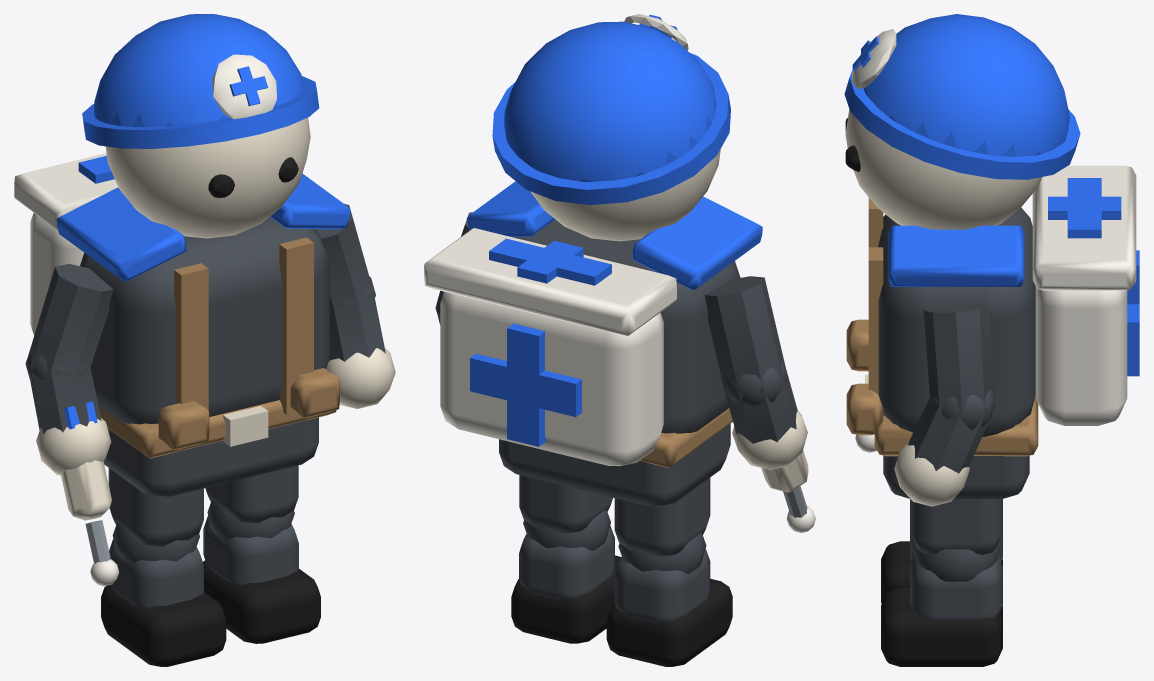
Rendered from medic.glb.
3 views of the same model, side by side, from view 1: azimuth 30°, elevation 25°; view 2: azimuth 150°, elevation 25°; view 3: azimuth 270°, elevation 25° (orthographic).
Visible parts, largest first — view 1: turret__M_SmokePlastic, head__M_Team, arms__M_SmokePlastic, head__M_CreamPlastic, turret__M_Kraft, turret__M_Team, hips__M_SmokePlastic, knee_r__M_Licorice, pack__M_Bone, knee_l__M_Licorice, knee_l__M_SmokePlastic, knee_r__M_SmokePlastic (+11 smaller); view 2: pack__M_Bone, head__M_Team, pack__M_Team, arms__M_SmokePlastic, turret__M_SmokePlastic, turret__M_Team, hips__M_SmokePlastic, knee_r__M_SmokePlastic, knee_l__M_SmokePlastic, knee_r__M_Licorice, head__M_CreamPlastic, leg_r__M_SmokePlastic (+6 smaller); view 3: head__M_Team, pack__M_Bone, turret__M_SmokePlastic, arms__M_SmokePlastic, head__M_CreamPlastic, turret__M_Team, knee_l__M_Licorice, knee_l__M_SmokePlastic, turret__M_Kraft, leg_l__M_SmokePlastic, pack__M_Team, hips__M_SmokePlastic (+4 smaller).
Boxes of the visible parts, x1,y1,x2,y2 form: turret__M_SmokePlastic: [80, 217, 329, 424]; head__M_Team: [82, 14, 319, 148]; arms__M_SmokePlastic: [25, 203, 385, 434]; head__M_CreamPlastic: [105, 117, 310, 238]; turret__M_Kraft: [158, 237, 339, 450]; turret__M_Team: [56, 173, 350, 281]; hips__M_SmokePlastic: [103, 417, 318, 496]; knee_r__M_Licorice: [101, 585, 226, 666]; pack__M_Bone: [14, 153, 118, 335]; knee_l__M_Licorice: [203, 560, 320, 643]; knee_l__M_SmokePlastic: [203, 500, 298, 585]; knee_r__M_SmokePlastic: [109, 523, 203, 608]; pack__M_Bone: [424, 228, 676, 466]; head__M_Team: [492, 14, 730, 205]; pack__M_Team: [470, 238, 611, 446]; arms__M_SmokePlastic: [435, 212, 797, 443]; turret__M_SmokePlastic: [512, 219, 740, 433]; turret__M_Team: [467, 181, 762, 290]; hips__M_SmokePlastic: [499, 424, 730, 506]; knee_r__M_SmokePlastic: [614, 533, 710, 622]; knee_l__M_SmokePlastic: [519, 510, 614, 599]; knee_r__M_Licorice: [606, 578, 732, 666]; head__M_CreamPlastic: [530, 149, 720, 241]; leg_r__M_SmokePlastic: [614, 478, 710, 556]; head__M_Team: [844, 14, 1080, 179]; pack__M_Bone: [1032, 165, 1136, 425]; turret__M_SmokePlastic: [878, 207, 1035, 436]; arms__M_SmokePlastic: [907, 304, 995, 473]; head__M_CreamPlastic: [845, 109, 1041, 229]; turret__M_Team: [888, 225, 1024, 286]; knee_l__M_Licorice: [881, 587, 1002, 666]; knee_l__M_SmokePlastic: [910, 543, 1002, 619]; turret__M_Kraft: [846, 197, 883, 435]; leg_l__M_SmokePlastic: [910, 499, 1002, 555]; pack__M_Team: [1048, 178, 1139, 376]; hips__M_SmokePlastic: [883, 455, 1029, 498].
Bounding box in the file's own units: 0.332 × 0.5477 × 0.2418.
